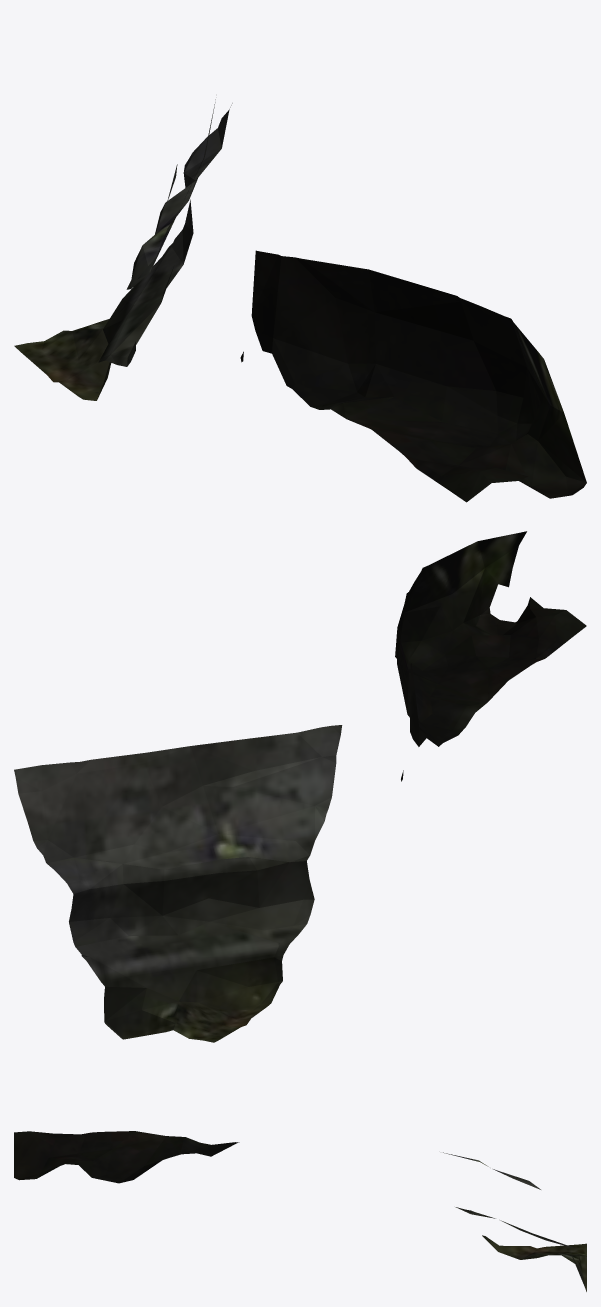
3 renders of one model, top to bottom at view 1: azimuth 30°, elevation 25°; view 2: azimuth 150°, elevation 25°; view 3: azimuth 270°, elevation 25°, orthographic. The views are drawn at different scales.
Bounding box in the file's own units: 0.5191 × 0.6024 × 1.67.
1 material, 1 textured.
